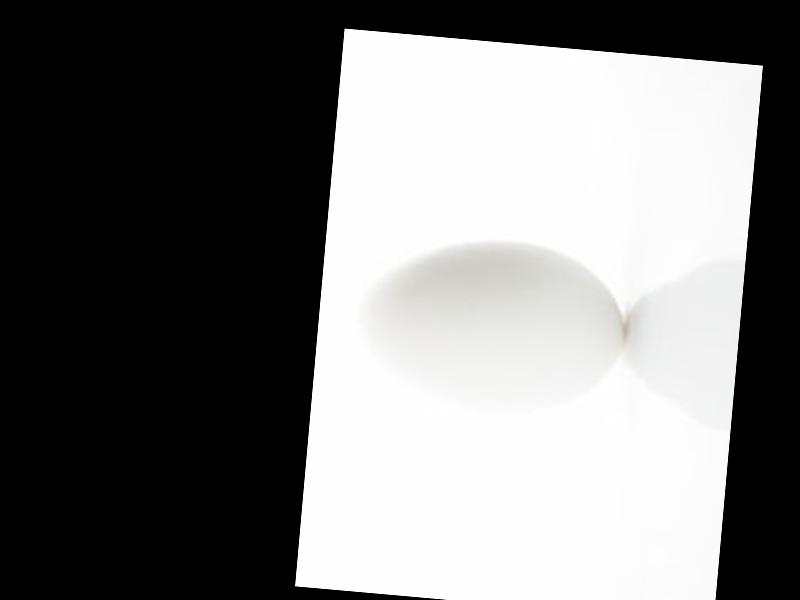Eggs: (353, 229, 631, 416)
